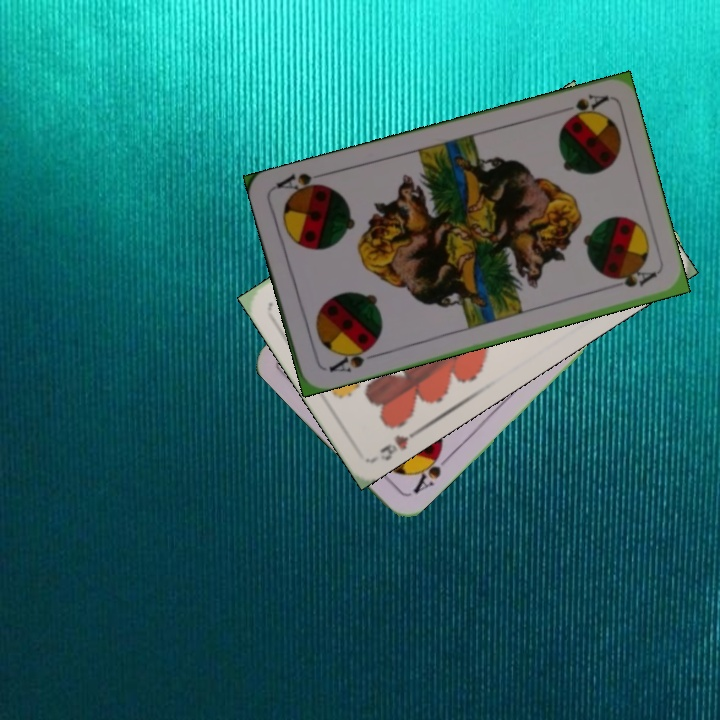H9: (376, 424, 424, 464)
SA: (409, 444, 453, 497), (552, 90, 610, 124), (324, 341, 380, 375)
